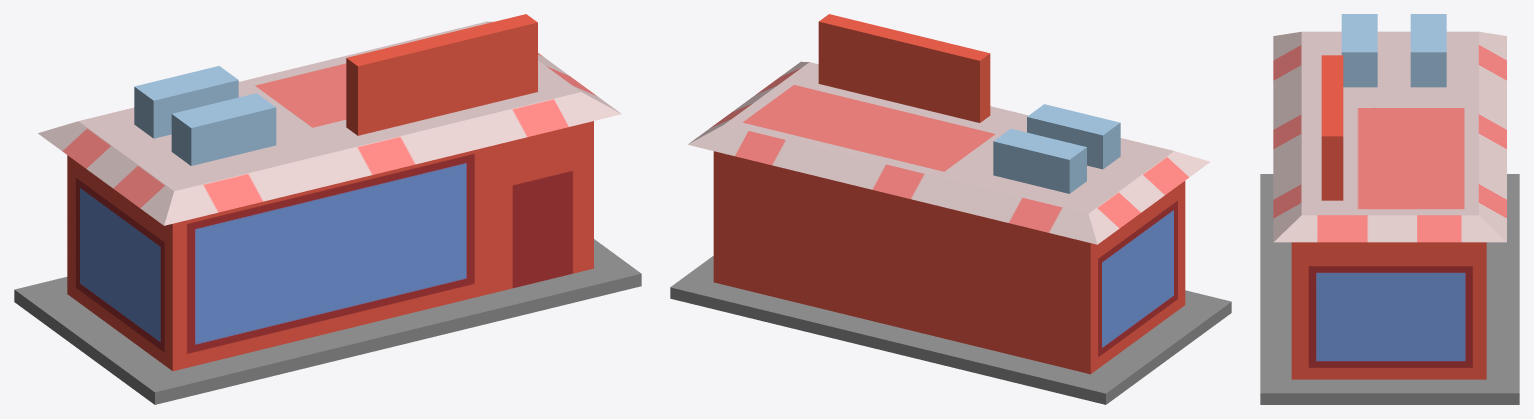
File: Big_Market_4.FBX
The picture shows the model from 3 angles, left to right: view 1: azimuth 30°, elevation 25°; view 2: azimuth 150°, elevation 25°; view 3: azimuth 270°, elevation 25°; orthographic projection. The views are drawn at different scales.
Visible parts, largest first — view 1: Box011, Box002; view 2: Box011, Box002; view 3: Box011, Box002.
Part boxes in pixels (<box>): Box011: <box>38,14,621,371</box>; Box002: <box>14,239,641,404</box>; Box011: <box>688,14,1210,374</box>; Box002: <box>670,256,1231,404</box>; Box011: <box>1273,14,1506,379</box>; Box002: <box>1260,174,1519,404</box>.
Bounding box in the file's own units: 2 × 1.01 × 1.
5 materials, 4 textured.
